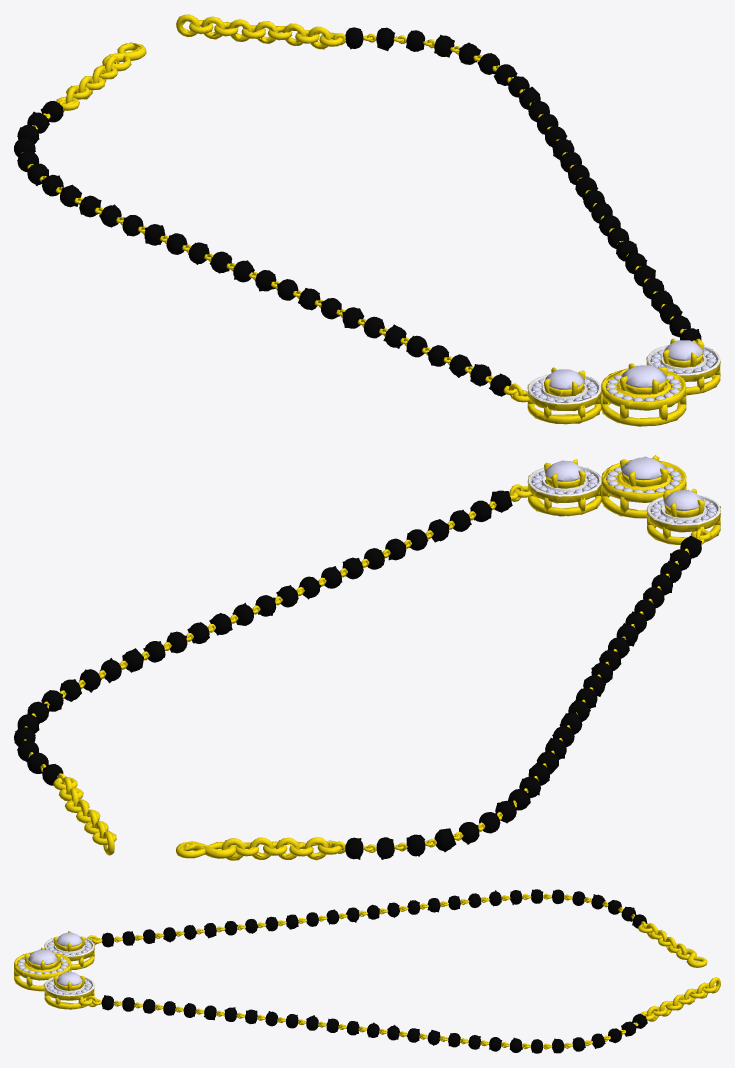
The picture shows the model from 3 angles, top to bottom: view 1: azimuth 30°, elevation 25°; view 2: azimuth 150°, elevation 25°; view 3: azimuth 270°, elevation 25°; orthographic projection. The views are drawn at different scales.
Parts seen in each view (by area): view 1: highPolyMesh, lowPolyMesh; view 2: highPolyMesh, lowPolyMesh; view 3: highPolyMesh, lowPolyMesh.
Part boxes in pixels (left/top/right/bottom): highPolyMesh: left=14, top=14, right=720, bottom=426; lowPolyMesh: left=15, top=14, right=720, bottom=426; highPolyMesh: left=14, top=455, right=720, bottom=860; lowPolyMesh: left=14, top=455, right=720, bottom=860; highPolyMesh: left=14, top=889, right=720, bottom=1053; lowPolyMesh: left=14, top=889, right=720, bottom=1053.
Size of the model in its own units: 0.053 by 0.00422 by 0.1014.
